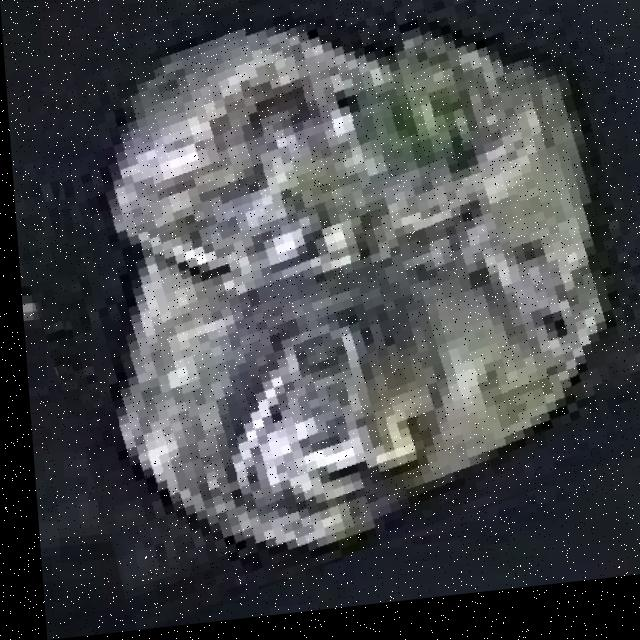can: (52, 4, 640, 601)
